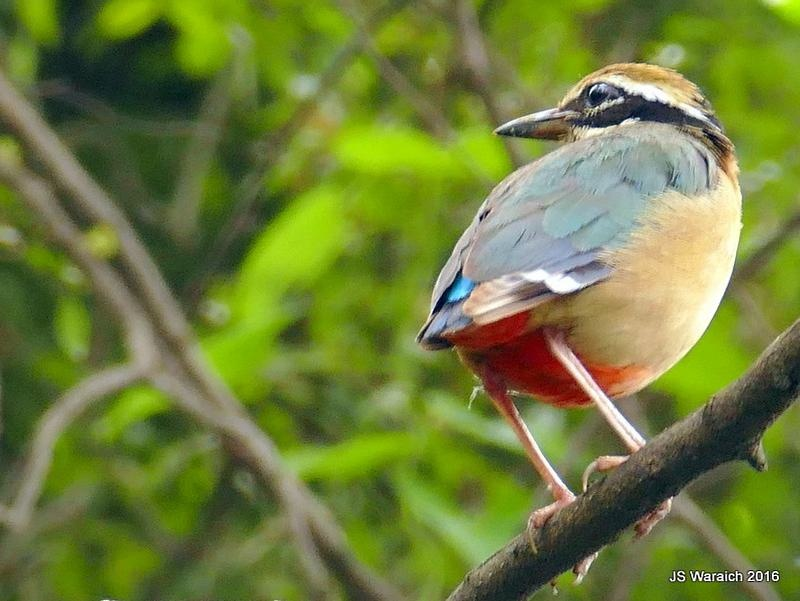pitta: (408, 57, 748, 505)
